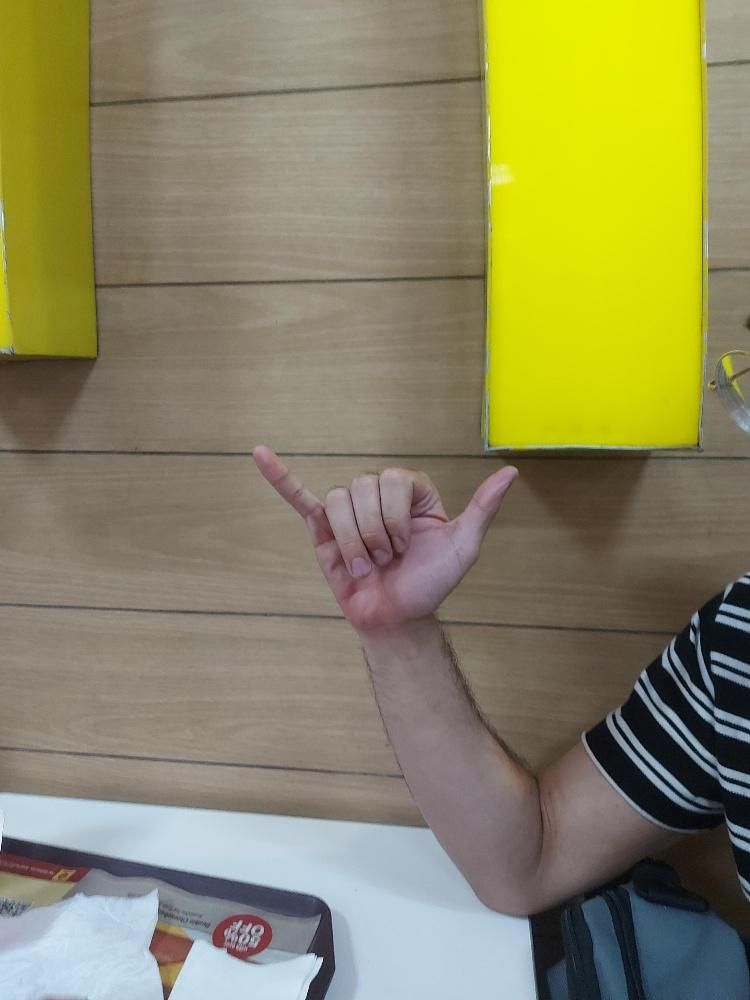y: (245, 438, 520, 626)
